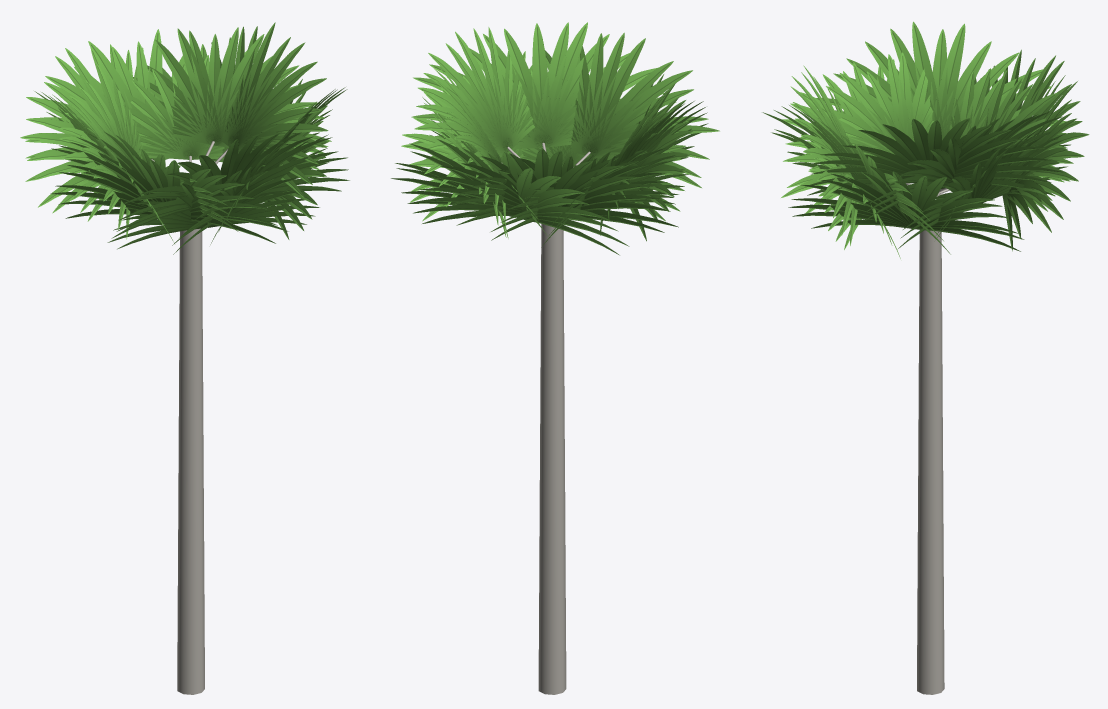
The model's file is pritchardia-pacifica.glb.
3 renders of one model, left to right at view 1: azimuth 30°, elevation 25°; view 2: azimuth 150°, elevation 25°; view 3: azimuth 270°, elevation 25°, orthographic.
Parts seen in each view (by area): view 1: fronde, estipe; view 2: fronde, estipe; view 3: fronde, estipe.
Part boxes in pixels (left/top/right/bottom): fronde: left=20, top=22, right=349, bottom=254; estipe: left=151, top=141, right=228, bottom=694; fronde: left=391, top=22, right=719, bottom=255; estipe: left=502, top=142, right=590, bottom=694; fronde: left=762, top=21, right=1089, bottom=258; estipe: left=906, top=183, right=949, bottom=694.
Bounding box in the file's own units: 4 × 8 × 3.89.
2 materials, 1 textured.
